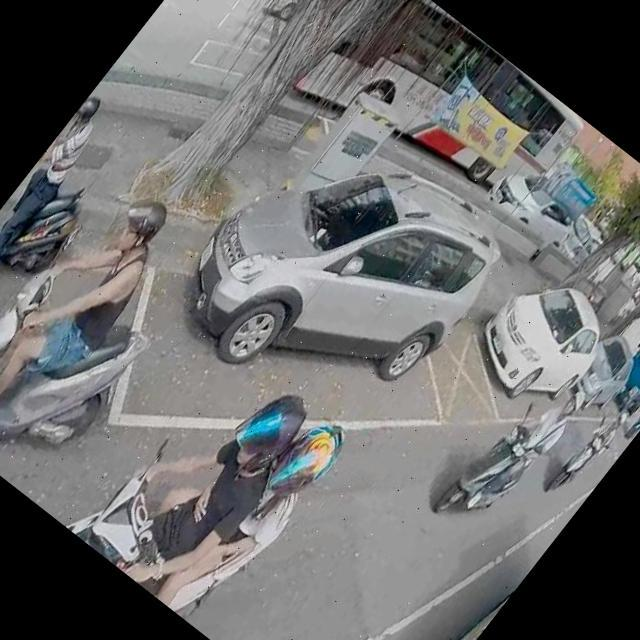person: (110, 366, 356, 634), (78, 349, 320, 611), (0, 174, 190, 460), (0, 91, 124, 315), (448, 362, 596, 532), (552, 404, 630, 494)
